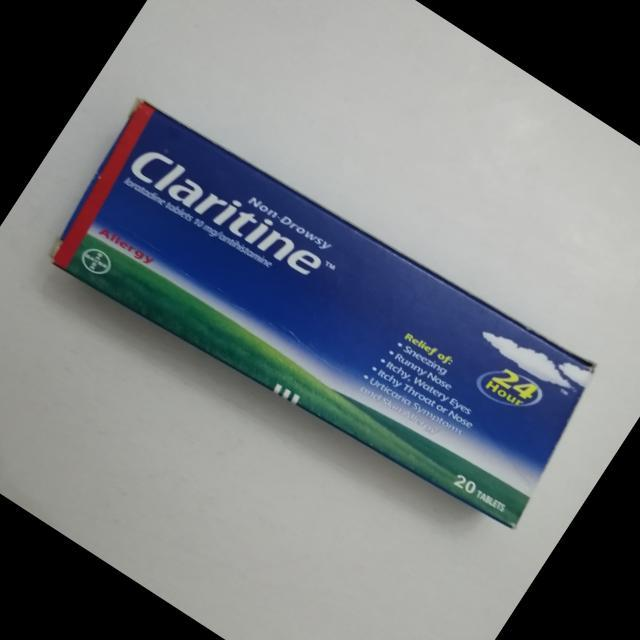Medicine Name: (115, 133, 330, 293)
